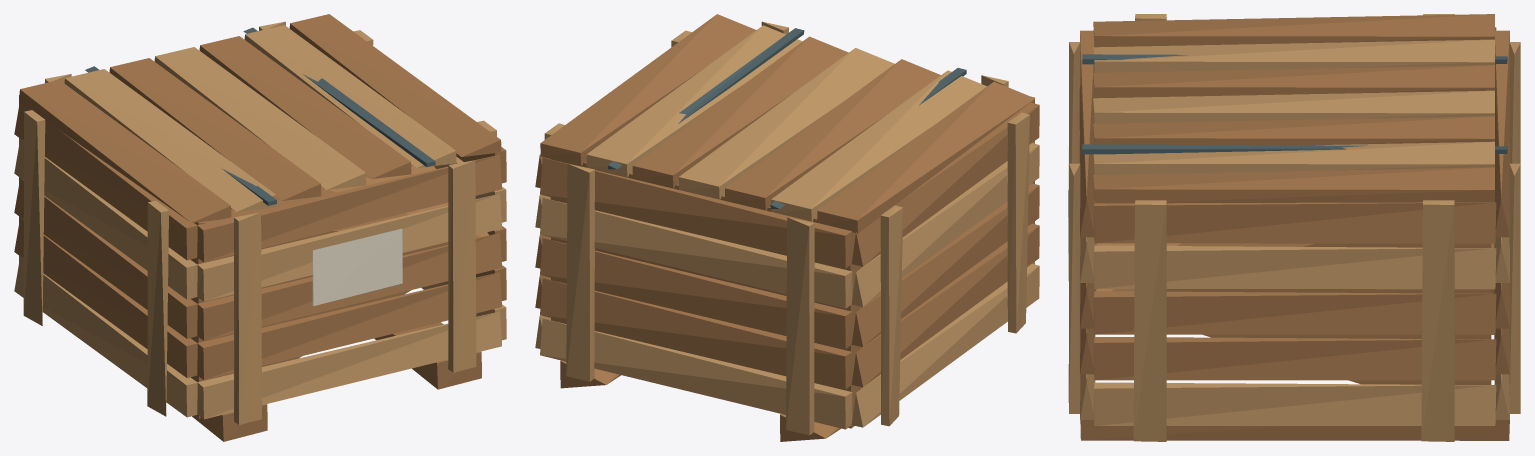
The model's file is oak-crate.low.glb.
The picture shows the model from 3 angles, left to right: view 1: azimuth 30°, elevation 25°; view 2: azimuth 150°, elevation 25°; view 3: azimuth 270°, elevation 25°; orthographic projection. The views are drawn at different scales.
Parts seen in each view (by area): view 1: geometry:body:0, geometry:body:1, geometry:body:3, geometry:body:2; view 2: geometry:body:0, geometry:body:1, geometry:body:2; view 3: geometry:body:0, geometry:body:1, geometry:body:2.
Part boxes in pixels (x1=…): geometry:body:0: x1=14, y1=14, x2=506, y2=441; geometry:body:1: x1=14, y1=21, x2=506, y2=424; geometry:body:3: x1=312, y1=228, x2=402, y2=305; geometry:body:2: x1=85, y1=27, x2=435, y2=205; geometry:body:0: x1=535, y1=14, x2=1039, y2=441; geometry:body:1: x1=535, y1=21, x2=1039, y2=435; geometry:body:2: x1=608, y1=28, x2=966, y2=208; geometry:body:0: x1=1079, y1=14, x2=1509, y2=440; geometry:body:1: x1=1068, y1=14, x2=1520, y2=441; geometry:body:2: x1=1082, y1=54, x2=1507, y2=154.
Bounding box in the file's own units: 1.57 × 1.02 × 1.57.
